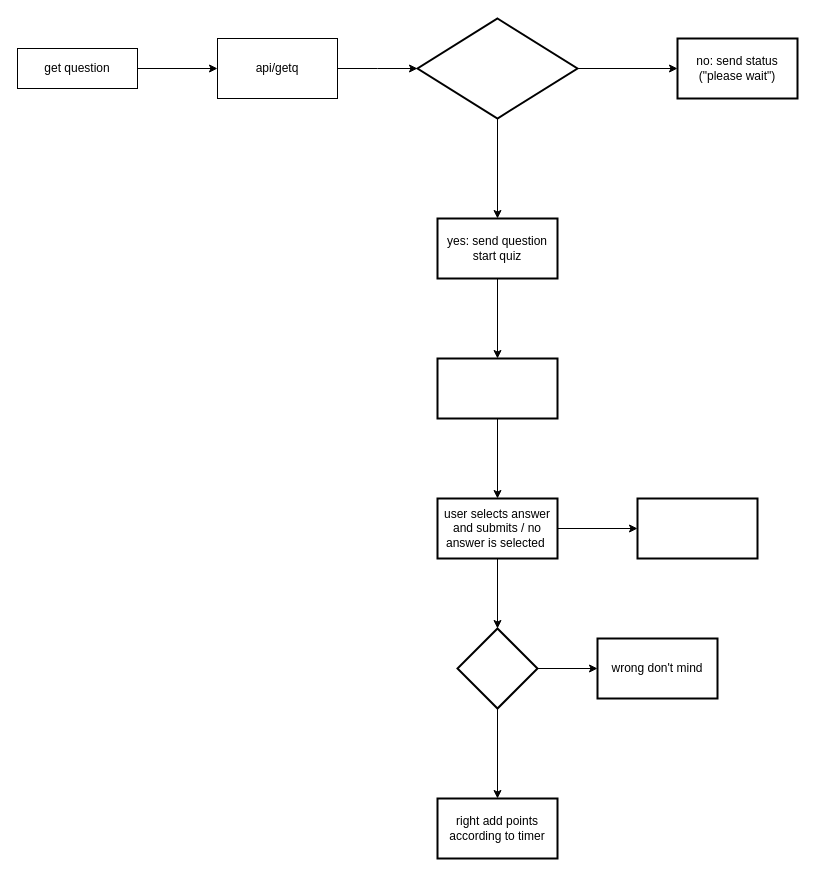
Image size: 816x876. Some labels were removed from this diagram. Here are the shapes that lost their labels. From the top down, the centre of each, then its label:
At (x=497, y=68): "question.find(state:active)".
At (x=497, y=388): "reset-states set-timers".
At (x=697, y=528): "no answer : no changes in backend".
At (x=497, y=668): "answer".
